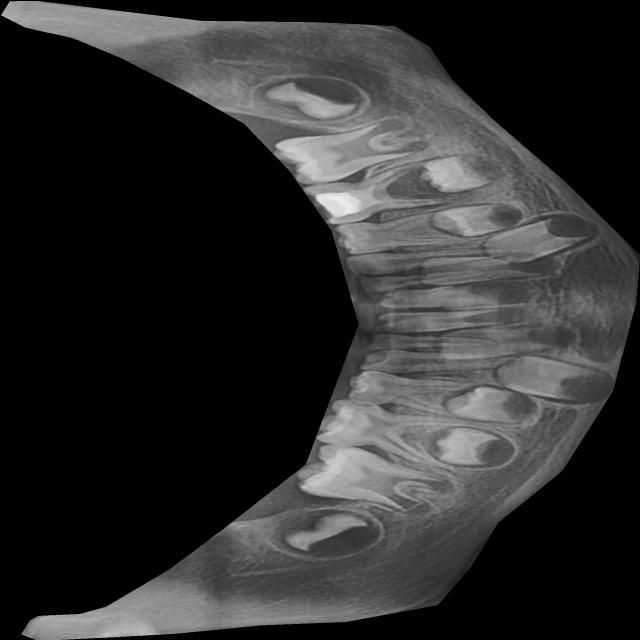mandibula: (1, 0, 640, 640)
